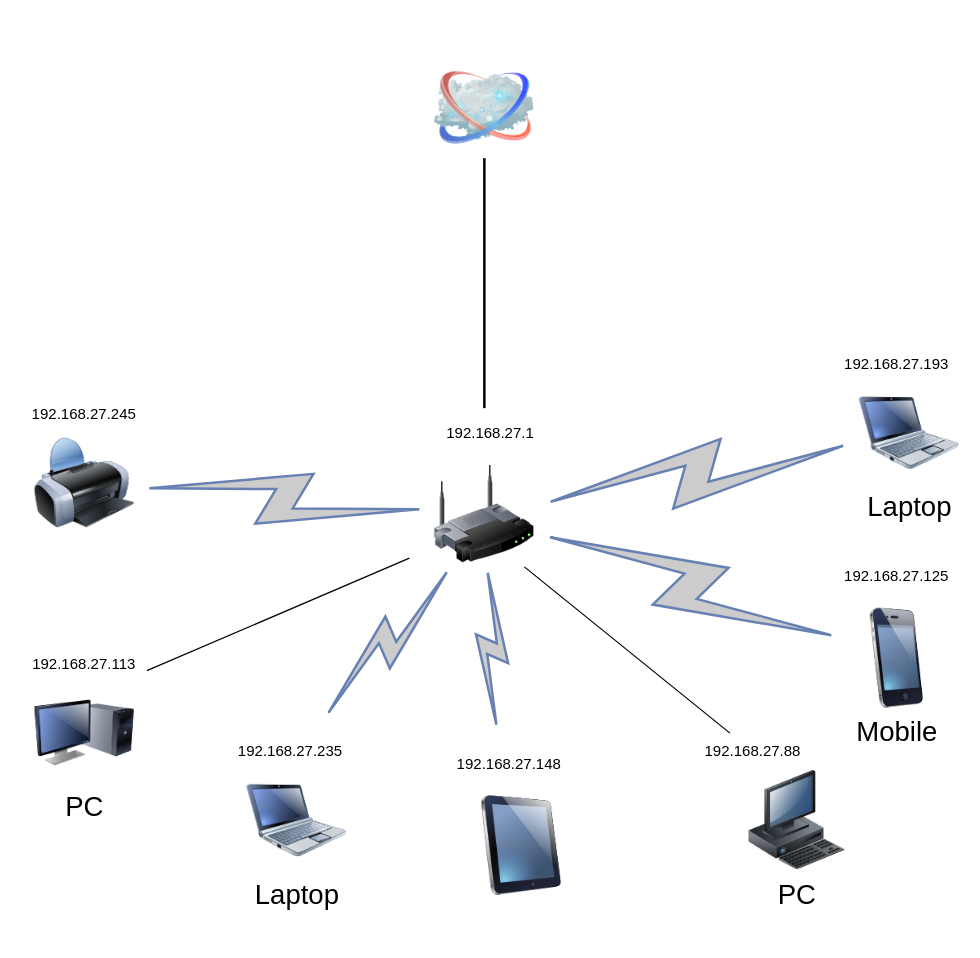
This 980x958 diagram has some shape labels left out. Here are the shapes that lost their labels. From the top down, the centre of each, then its label:
At pixel 484 108: "Internet".
At pixel 84 482: "Printer".
At pixel 521 845: "Tablet".
